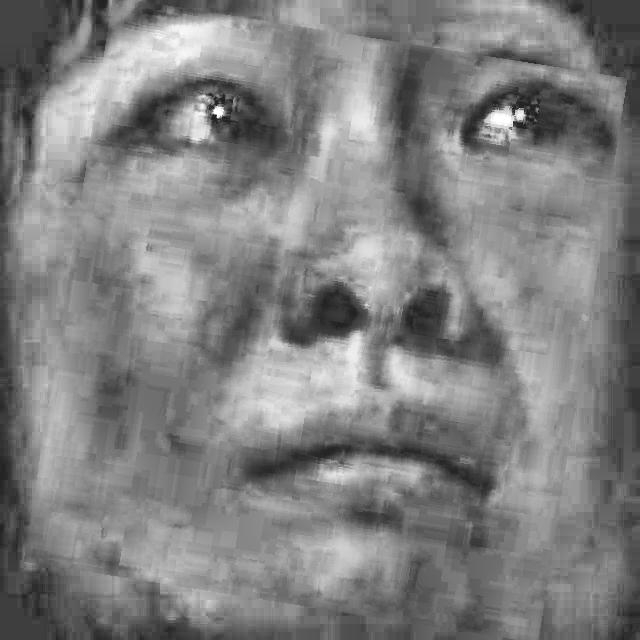fear: (44, 16, 607, 624)
